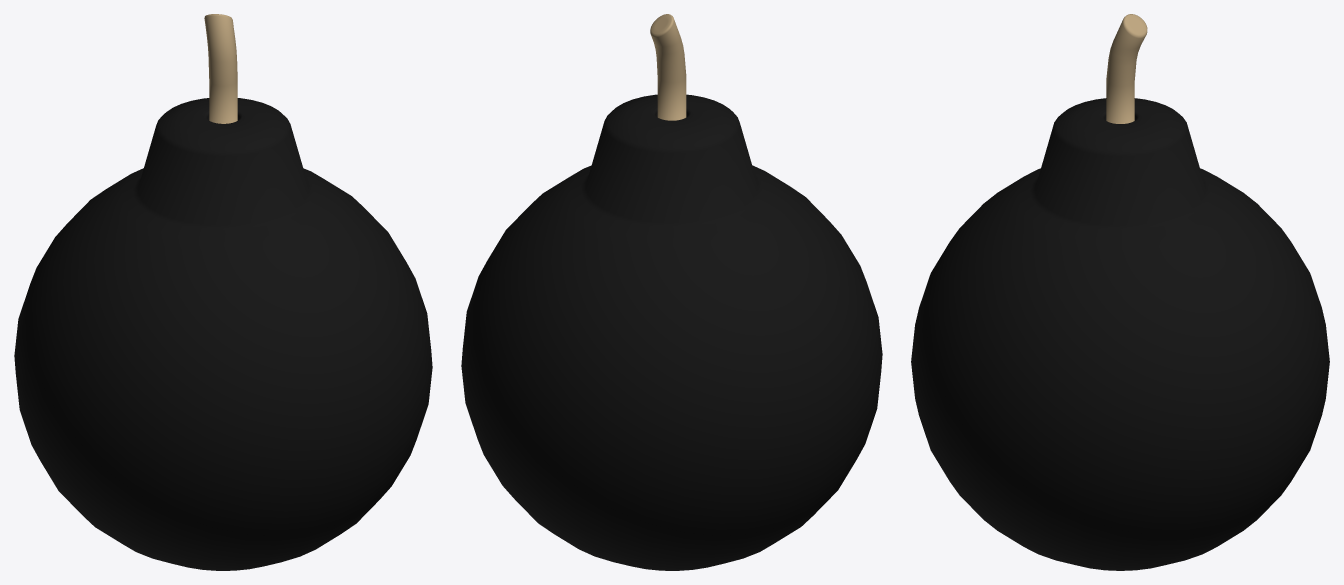
File: bobm.fbx
The picture shows the model from 3 angles, left to right: view 1: azimuth 30°, elevation 25°; view 2: azimuth 150°, elevation 25°; view 3: azimuth 270°, elevation 25°; orthographic projection.
Visible parts, largest first — view 1: bomp; view 2: bomp; view 3: bomp.
Boxes of the visible parts, <box> form: bomp: <box>14,14,432,570</box>; bomp: <box>461,14,882,570</box>; bomp: <box>911,14,1329,570</box>.
Bounding box in the file's own units: 200 × 282 × 200.
